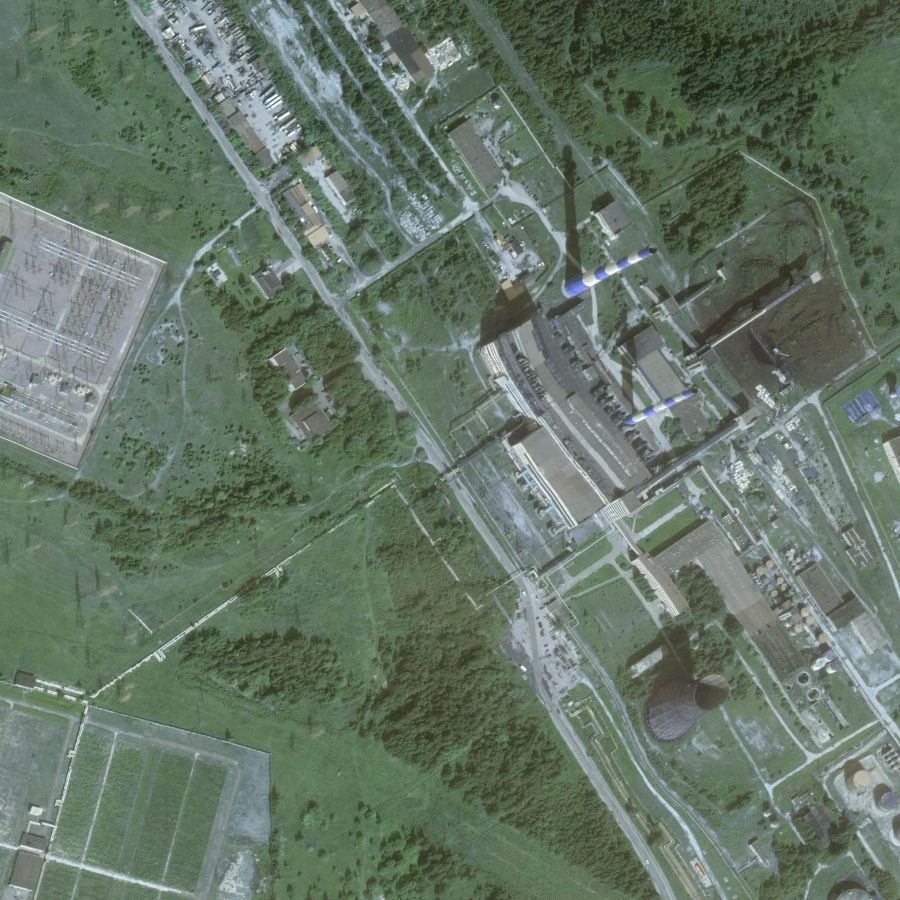PowerPlant: (531, 172, 837, 555), (620, 623, 749, 753)
